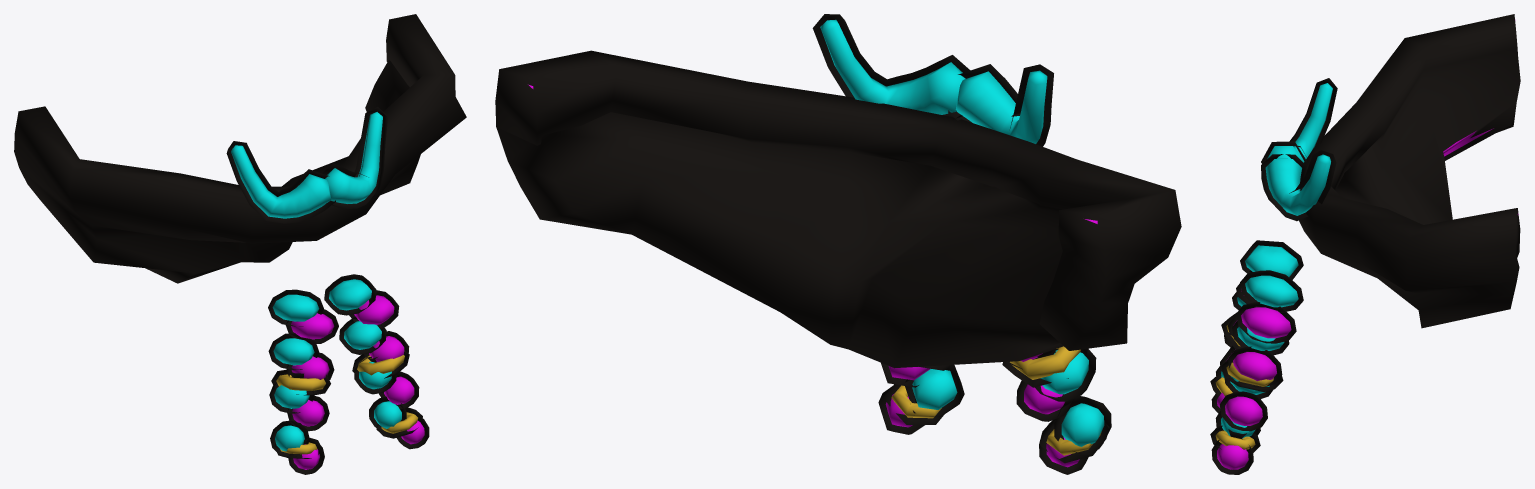
File: beard_forked_female_lo.glb
3 views of the same model, side by side, from view 1: azimuth 30°, elevation 25°; view 2: azimuth 150°, elevation 25°; view 3: azimuth 270°, elevation 25° (orthographic). The views are drawn at different scales.
Visible parts, largest first — view 1: beard_forked_female_lo; view 2: beard_forked_female_lo; view 3: beard_forked_female_lo.
Part boxes in pixels (<box>): beard_forked_female_lo: <box>14,14,466,474</box>; beard_forked_female_lo: <box>495,14,1181,474</box>; beard_forked_female_lo: <box>1210,14,1520,474</box>.
Bounding box in the file's own units: 0.556 × 0.4026 × 0.347.
